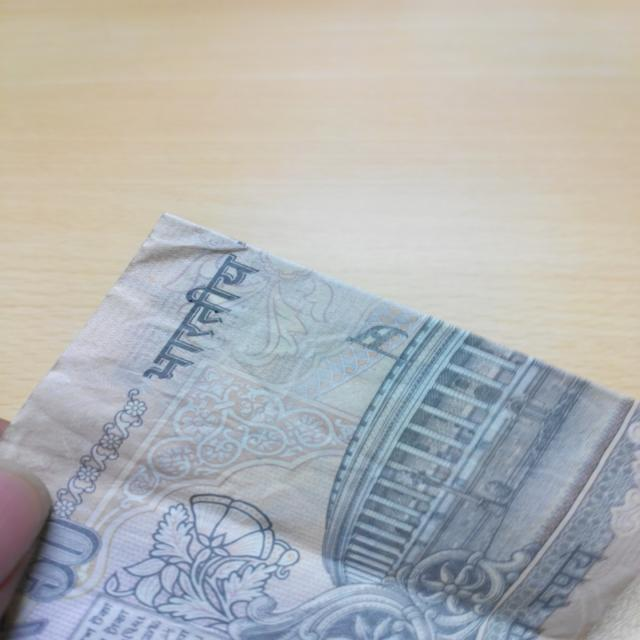50rs: (8, 201, 640, 640)
